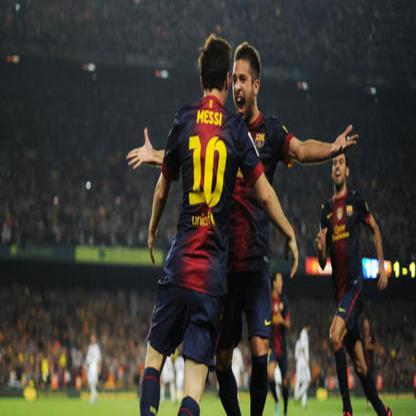face: (233, 63, 254, 120), (334, 155, 347, 185), (277, 275, 283, 296), (365, 321, 370, 331)
